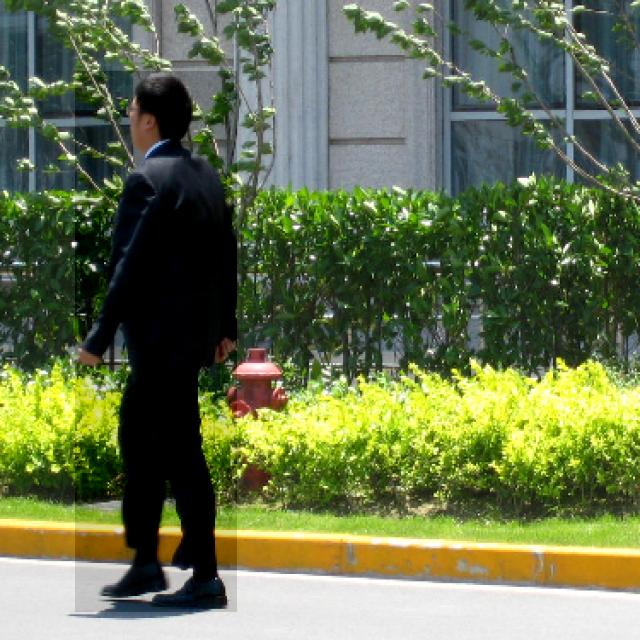with scooter: (75, 71, 237, 612)
